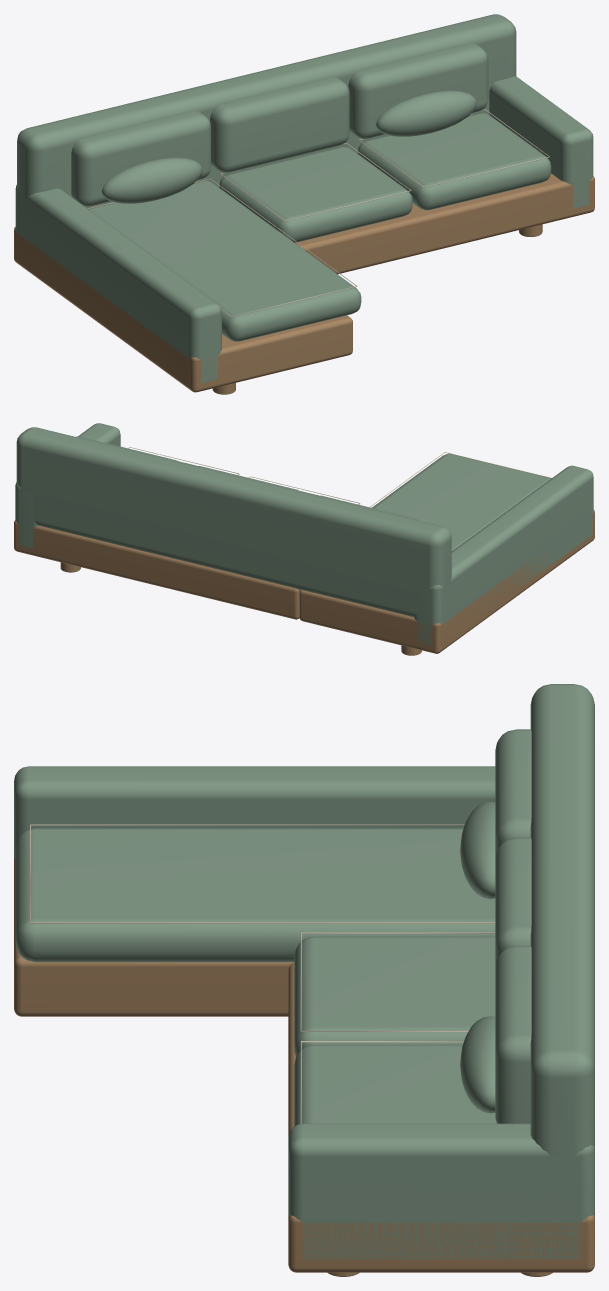
The picture shows the model from 3 angles, top to bottom: view 1: azimuth 30°, elevation 25°; view 2: azimuth 150°, elevation 25°; view 3: azimuth 270°, elevation 25°; orthographic projection. The views are drawn at different scales.
Parts seen in each view (by area): view 1: seat_0, back, arm_-1, chaise_base, seat_1, main_base, seat_2, cushion_1, cushion_2, cushion_0, arm_1, pillow_-1 (+1 smaller); view 2: back, arm_-1, main_base, seat_0, chaise_base, arm_1; view 3: seat_0, arm_1, back, arm_-1, seat_1, main_base, chaise_base, seat_2, cushion_2, cushion_0, cushion_1, pillow_1 (+2 smaller).
Boxes of the visible parts, left/top/right/bottom form: seat_0: left=88, top=180, right=361, bottom=341; back: left=17, top=14, right=516, bottom=208; arm_-1: left=15, top=185, right=221, bottom=383; chaise_base: left=14, top=227, right=352, bottom=392; seat_1: left=219, top=147, right=412, bottom=242; main_base: left=295, top=173, right=594, bottom=274; seat_2: left=357, top=113, right=551, bottom=210; cushion_1: left=210, top=77, right=349, bottom=172; cushion_2: left=348, top=43, right=488, bottom=138; cushion_0: left=71, top=111, right=210, bottom=206; arm_1: left=489, top=76, right=593, bottom=208; pillow_-1: left=101, top=157, right=202, bottom=203; back: left=16, top=427, right=451, bottom=616; arm_-1: left=414, top=465, right=593, bottom=645; main_base: left=14, top=520, right=299, bottom=619; seat_0: left=372, top=453, right=551, bottom=551; chaise_base: left=299, top=510, right=594, bottom=653; arm_1: left=15, top=423, right=120, bottom=548; seat_0: left=15, top=828, right=495, bottom=962; arm_1: left=288, top=1123, right=594, bottom=1259; back: left=530, top=684, right=594, bottom=1206; arm_-1: left=14, top=766, right=495, bottom=858; seat_1: left=294, top=936, right=495, bottom=1056; main_base: left=288, top=963, right=594, bottom=1272; chaise_base: left=14, top=858, right=294, bottom=1016; seat_2: left=294, top=1045, right=496, bottom=1126; cushion_2: left=495, top=946, right=531, bottom=1123; cushion_0: left=495, top=729, right=531, bottom=857; cushion_1: left=495, top=837, right=531, bottom=965; pillow_1: left=460, top=1016, right=495, bottom=1113.
Bounding box in the file's own units: 2.8 × 0.85 × 1.8.
